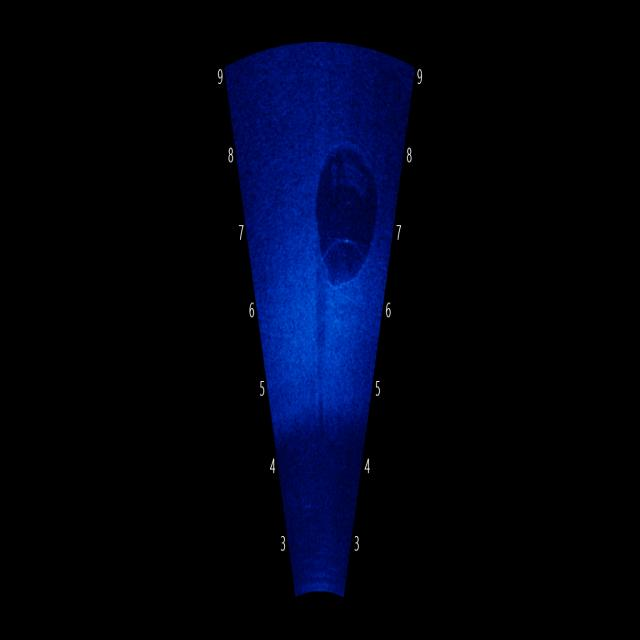circle: (303, 112, 387, 304)
